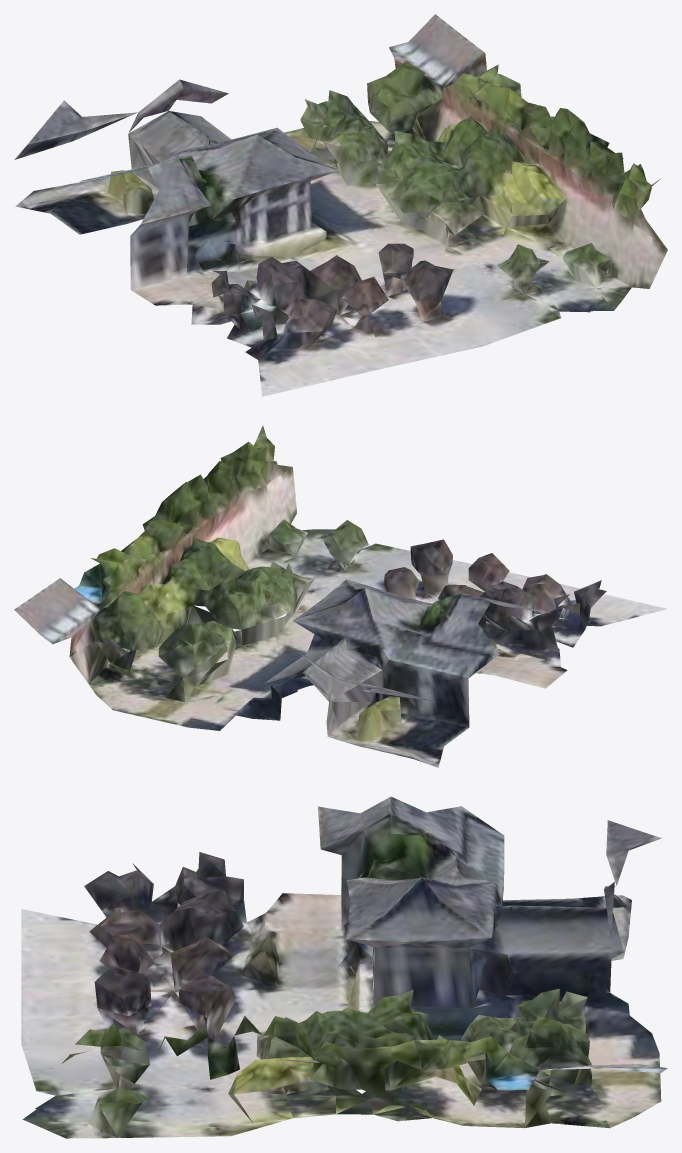
The model's file is Tile_+001_+005_L16_0.glb.
The picture shows the model from 3 angles, top to bottom: view 1: azimuth 30°, elevation 25°; view 2: azimuth 150°, elevation 25°; view 3: azimuth 270°, elevation 25°; orthographic projection. The views are drawn at different scales.
Parts seen in each view (by area): view 1: rtc; view 2: rtc; view 3: rtc.
Boxes of the visible parts, left/top/right/bottom form: rtc: left=14, top=14, right=667, bottom=396; rtc: left=14, top=425, right=666, bottom=767; rtc: left=21, top=796, right=667, bottom=1138.
Bounding box in the file's own units: 58.14 × 14.65 × 61.5.
Materials: 1 (1 with a texture image).
